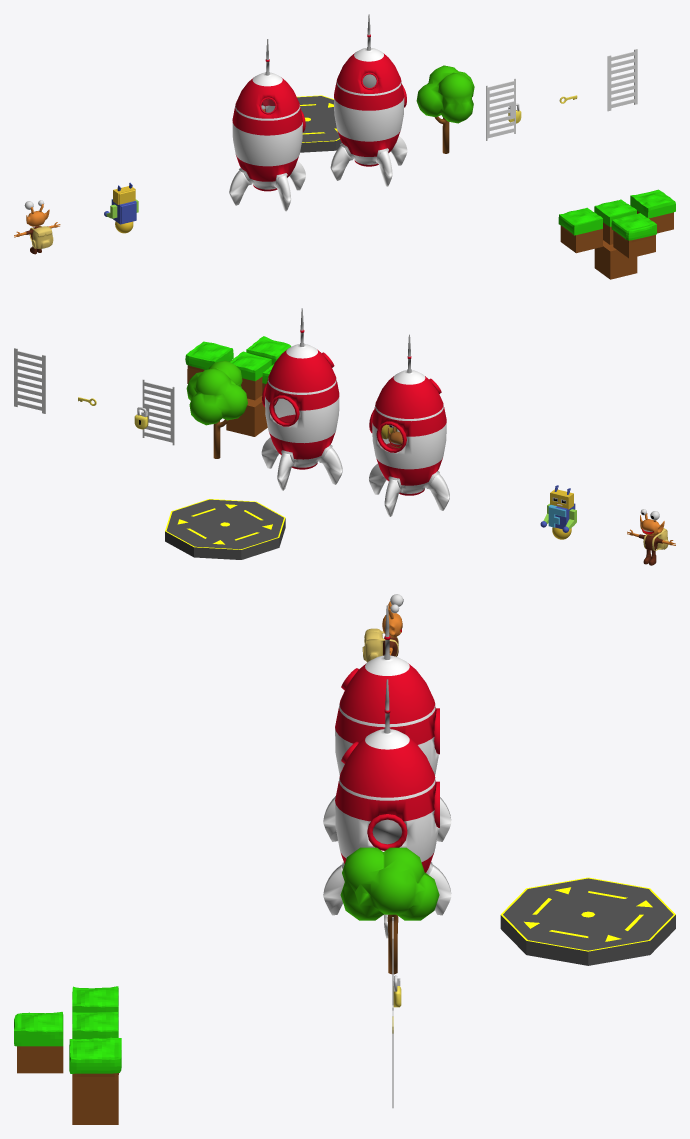
File: caua_portao.fbx
3 views of the same model, one above another, from view 1: azimuth 30°, elevation 25°; view 2: azimuth 150°, elevation 25°; view 3: azimuth 270°, elevation 25° (orthographic). The views are drawn at different scales.
Parts seen in each view (by area): view 1: foguete_cabeça, foguete, arvore, plataforma, cubo_2lado, cubo_1lado, muro, cubo_3lado, portão, furbot, cubo_terra, alien (+1 smaller); view 2: foguete, foguete_cabeça, plataforma, arvore, muro, portão, furbot, cubo_cima, alien, cubo_3lado, cubo_terra, cubo_2lado; view 3: foguete, plataforma, foguete_cabeça, arvore, cubo_3lado, cubo_2lado, alien, cubo_cima, cubo_terra, cubo_1lado.
Boxes of the visible parts, x1,y1,x2,y2 form: foguete_cabeça: (229,39,305,211); foguete: (330,14,407,186); arvore: (416,65,474,153); plataforma: (297,95,341,152); cubo_2lado: (611,213,656,258); cubo_1lado: (558,207,602,253); muro: (607,49,637,111); cubo_3lado: (630,189,675,233); portão: (486,78,515,140); furbot: (104,182,138,233); cubo_terra: (594,240,637,279); alien: (14,200,60,254); foguete: (261,308,342,490); foguete_cabeça: (369,334,449,516); plataforma: (165,499,285,559); arvore: (186,360,247,458); muro: (14,348,45,413); portão: (141,379,174,445); furbot: (540,485,576,539); cubo_cima: (230,351,271,400); alien: (627,509,675,565); cubo_3lado: (185,341,233,383); cubo_terra: (226,395,267,436); cubo_2lado: (246,336,291,365); foguete: (323,679,451,938); plataforma: (500,877,675,965); foguete_cabeça: (323,605,451,841); arvore: (340,847,439,974); cubo_3lado: (69,1037,121,1099); cubo_2lado: (14,1012,63,1073); alien: (362,594,403,662); cubo_cima: (72,1012,118,1039); cubo_terra: (72,1099,118,1124); cubo_1lado: (72,986,118,1015).
Bounding box in the file's own units: 2857 × 4622 × 1561.
